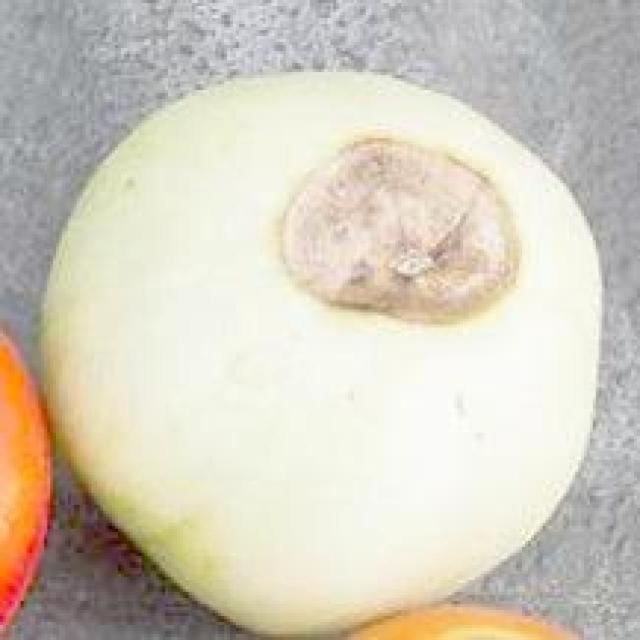Blossom End Rot Fruit: (181, 87, 348, 218)
